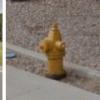a fire hydrant: (38, 22, 68, 79)
